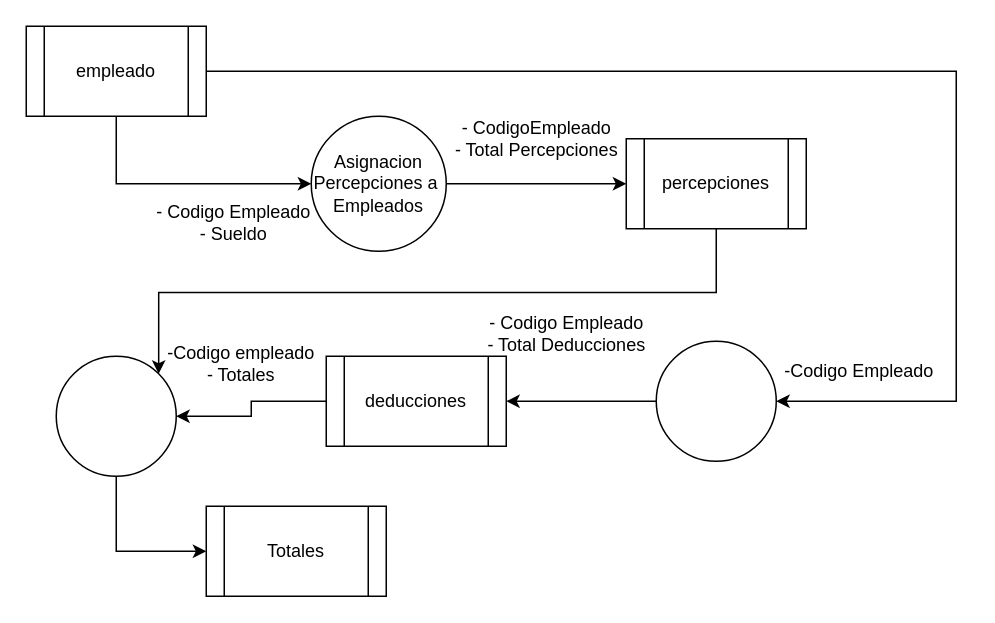
Some shapes in this 995 by 623 pixel diagram are drawn without their labels. Each missing label, with the box of its shape:
Asignacion Deducciones Empleados: (655, 340, 776, 461)
Calculo Nomina Final: (55, 355, 176, 476)
